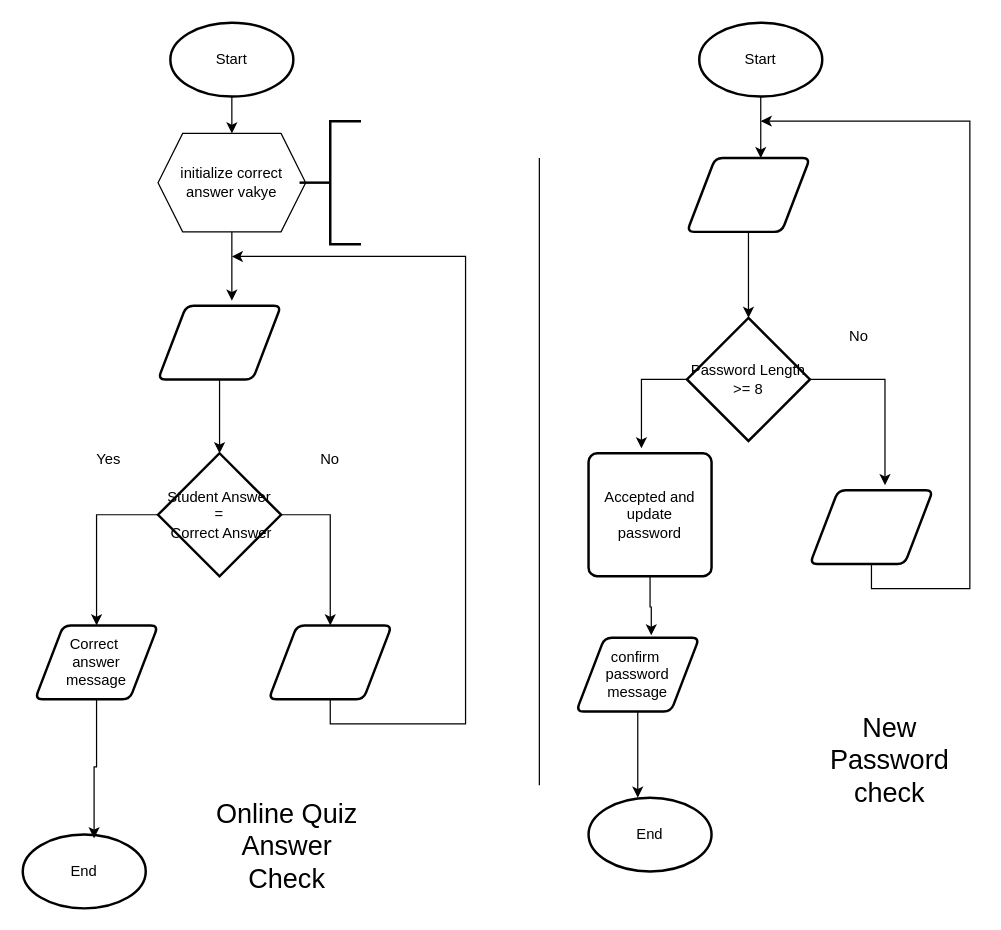
This 1001x930 diagram has some shape labels left out. Here are the shapes that lost their labels. From the top down, the box of each, then its label:
(298, 119, 362, 245): Value A, B, C or D
(685, 156, 811, 232): New Password
(156, 304, 282, 380): student answer
(808, 488, 934, 565): incorrect password message
(267, 624, 392, 700): Incorrect answer message
